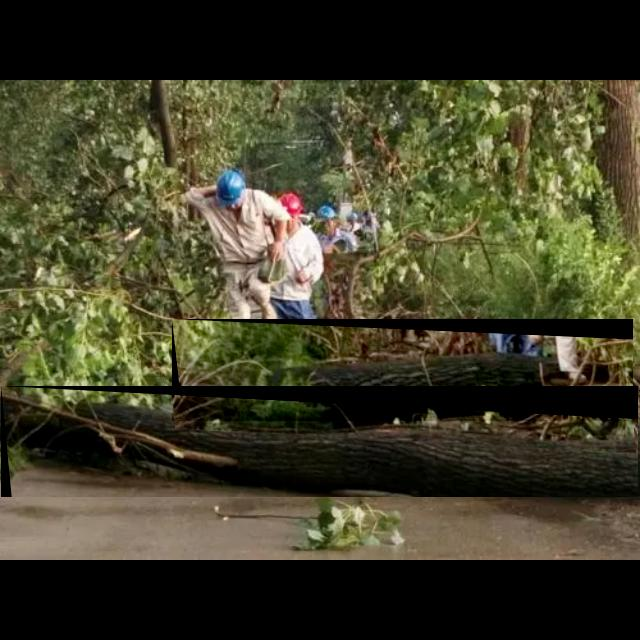Fallen Tree: (1, 386, 639, 498), (172, 319, 634, 421)
